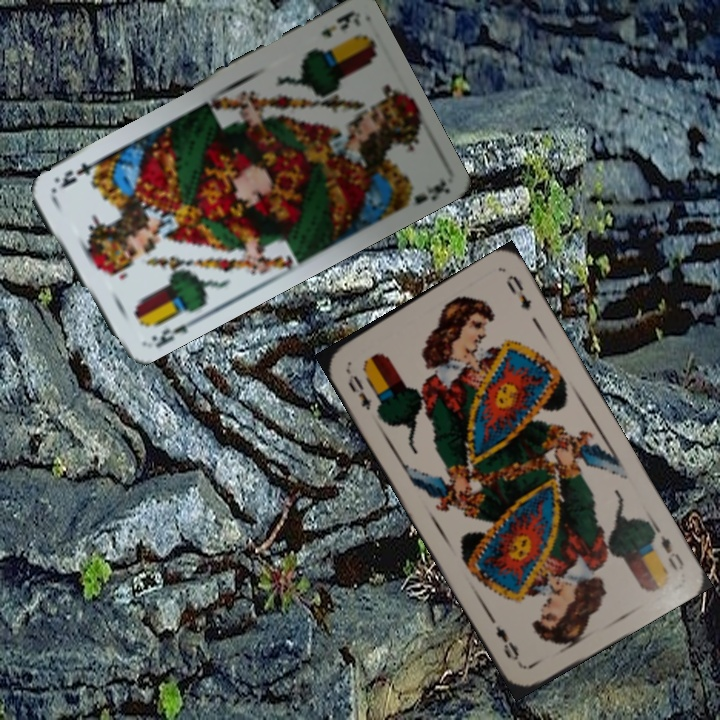EK: (137, 319, 191, 352), (317, 8, 354, 40)
EO: (647, 520, 687, 573), (341, 364, 375, 413)
